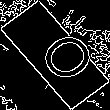O_SW: (19, 22, 91, 88)
